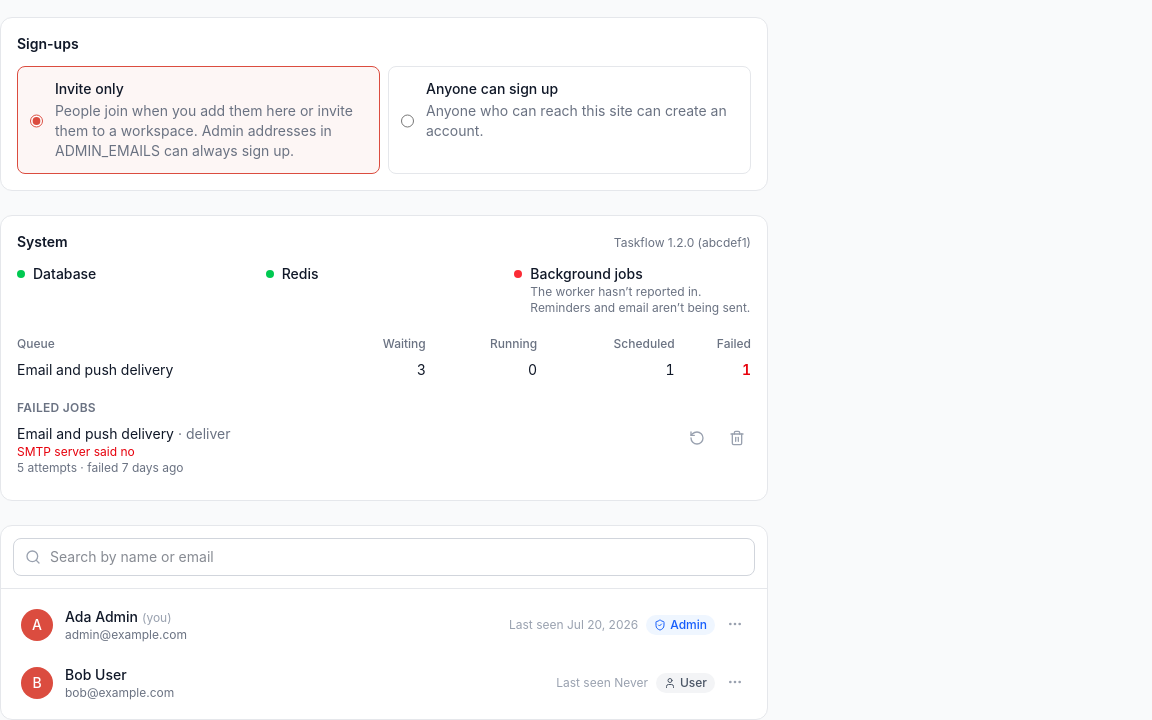
Test case: user actions › does not offer suspend or delete on your own row
This screenshot has width=1152, height=720.
(page scrolled)
Expected: the text "Ada Admin" is shown, [65, 608, 138, 625]
Click the button named "Actions for Ada Admin".
click(735, 624)  # box [723, 612, 747, 636]
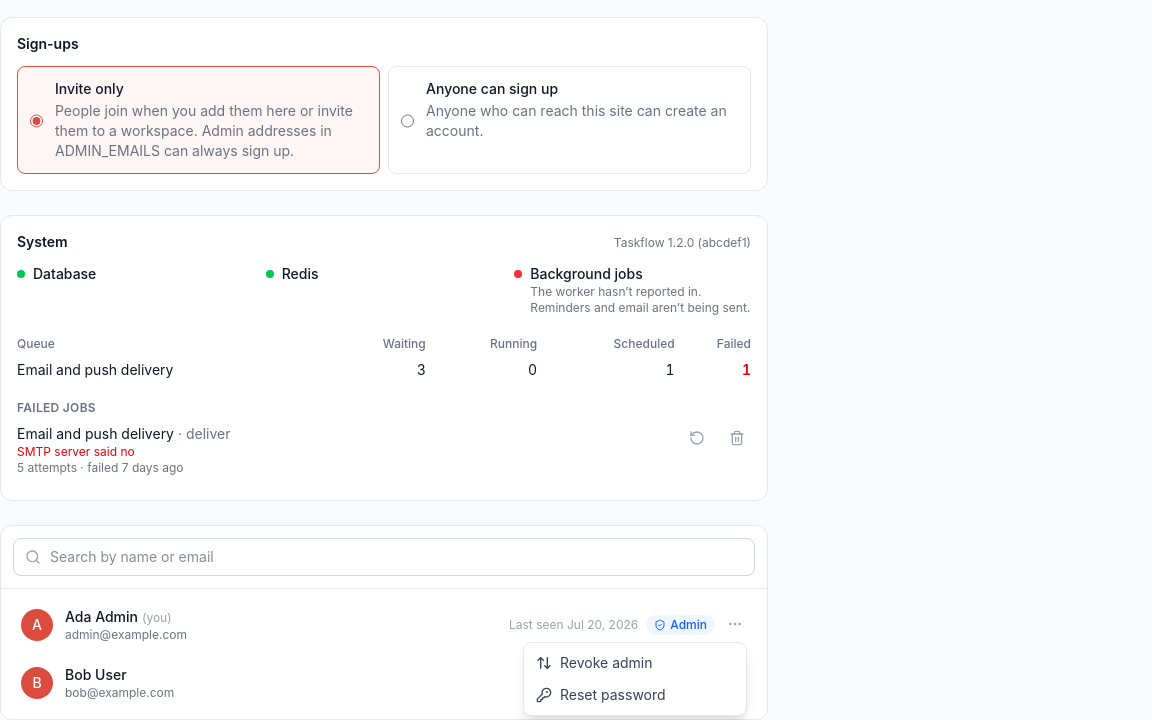
Now the button "Reset password" is shown, box [524, 679, 746, 711]
